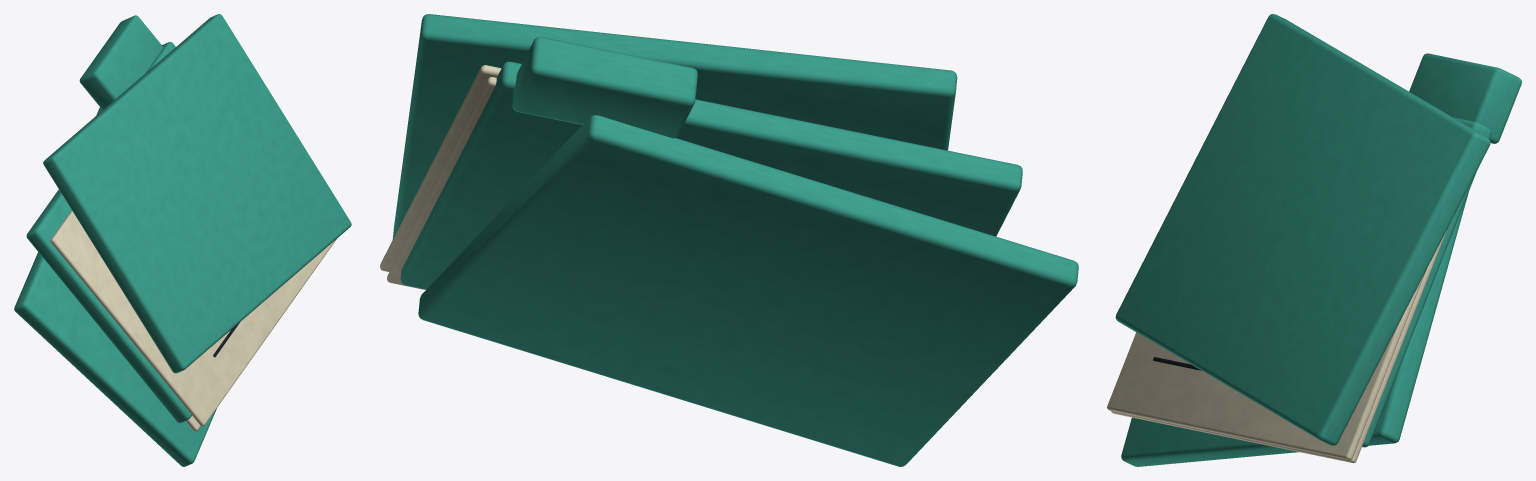
The picture shows the model from 3 angles, left to right: view 1: azimuth 30°, elevation 25°; view 2: azimuth 150°, elevation 25°; view 3: azimuth 270°, elevation 25°; orthographic projection. The views are drawn at different scales.
Visible parts, largest first — view 1: Fanned summary folder; view 2: Fanned summary folder; view 3: Fanned summary folder.
Part boxes in pixels (x1,y1,x2,y2): Fanned summary folder: [14, 14, 351, 466]; Fanned summary folder: [380, 14, 1078, 466]; Fanned summary folder: [1107, 14, 1521, 466].
Size of the model in its own units: 1.31 by 1.12 by 0.9246.
1 material, 1 textured.
